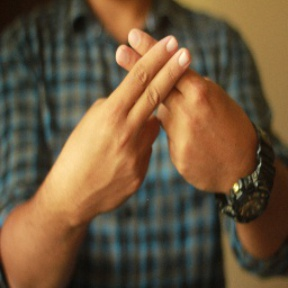F: (88, 22, 220, 151)
